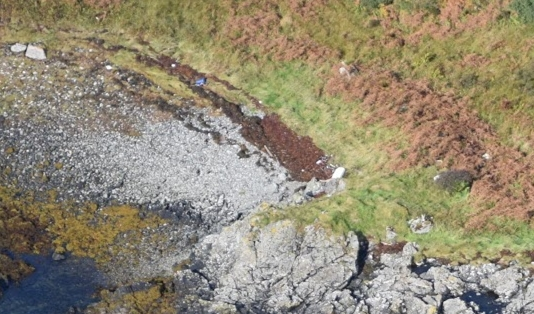white_in_green: (312, 151, 365, 194), (179, 59, 223, 100)
